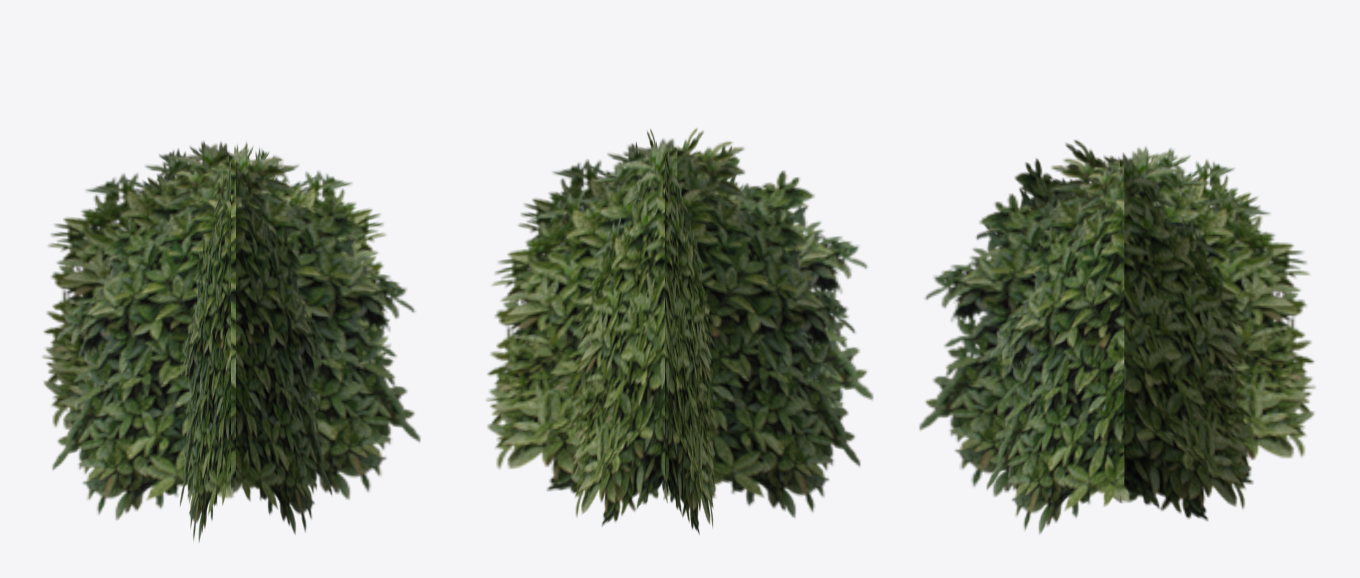
Rendered from Bush_01.glb.
3 views of the same model, side by side, from view 1: azimuth 30°, elevation 25°; view 2: azimuth 150°, elevation 25°; view 3: azimuth 270°, elevation 25° (orthographic). The views are drawn at different scales.
Parts seen in each view (by area): view 1: Bush 01; view 2: Bush 01; view 3: Bush 01.
Part boxes in pixels (<box>): Bush 01: <box>42,141,420,542</box>; Bush 01: <box>486,128,873,534</box>; Bush 01: <box>919,140,1315,534</box>.
Size of what is drawn, in the model's own units: 1.94 by 2.07 by 1.94.
Materials: 1 (1 with a texture image).
